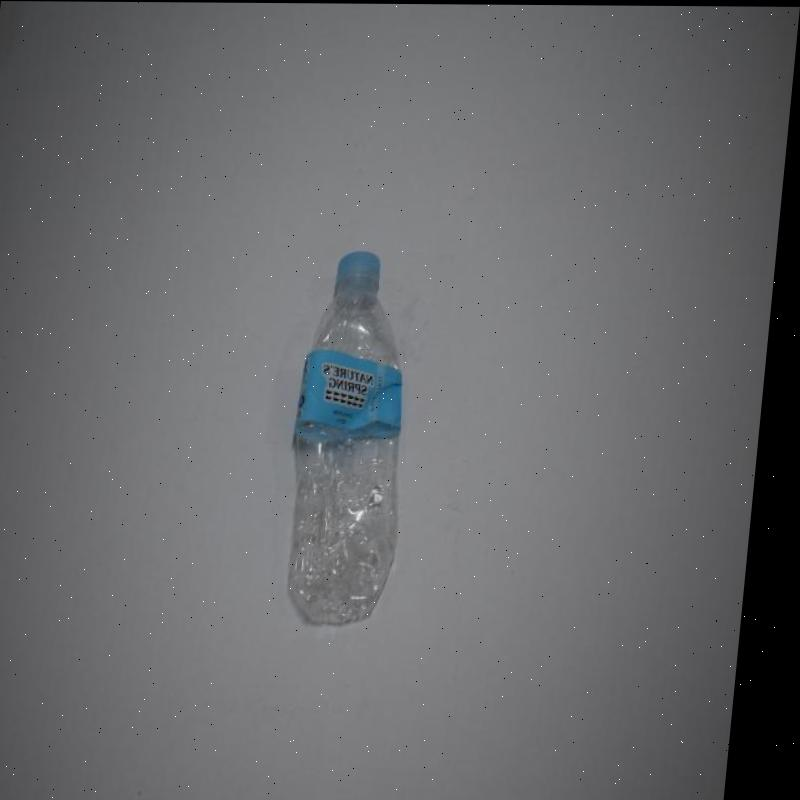botella: (289, 243, 430, 625)
